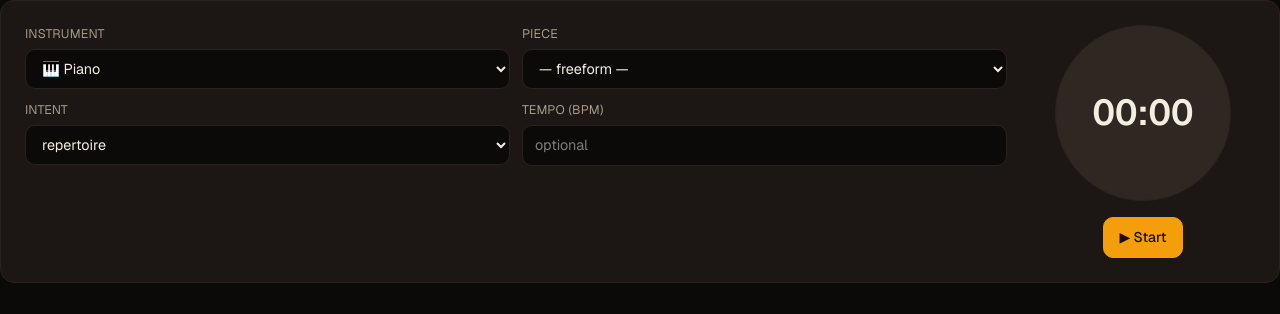
it: TimerPanel › transitions idle → running → paused and shows Resume + Save + Discard
Click the button "▶ Start": (1143, 237) [1103,217,1183,258]
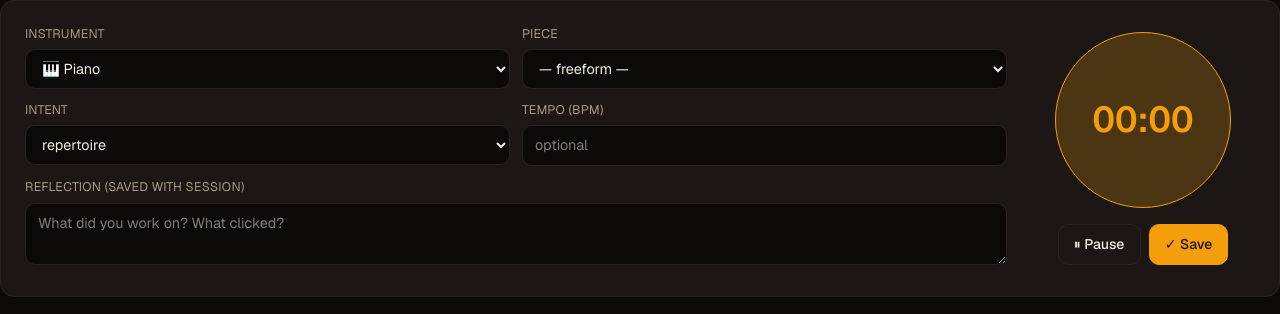
Expected: the button "⏸ Pause" is shown
Click the button "⏸ Pause": (1099, 245) [1058,224,1141,265]
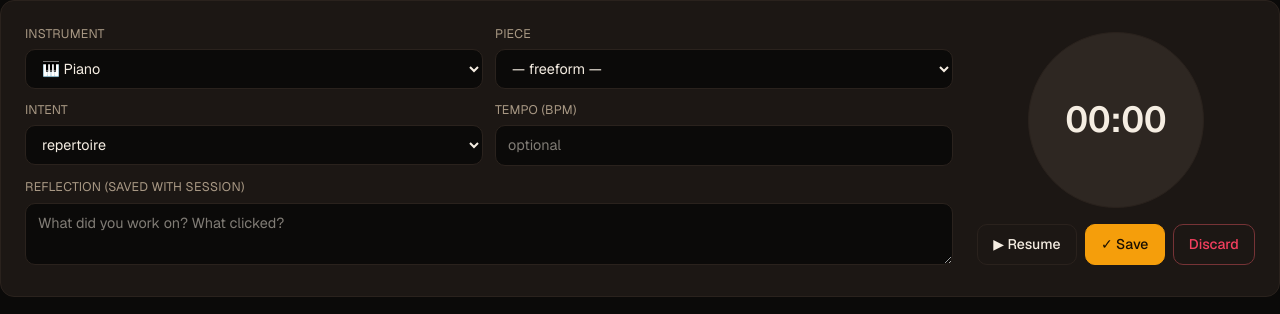
Expected: the button "✓ Save" is shown, [1085,224,1165,265]
Expected: the button "▶ Resume" is shown, [977,224,1077,265]
Expected: the button "Discard" is shown, [1173,224,1255,265]
